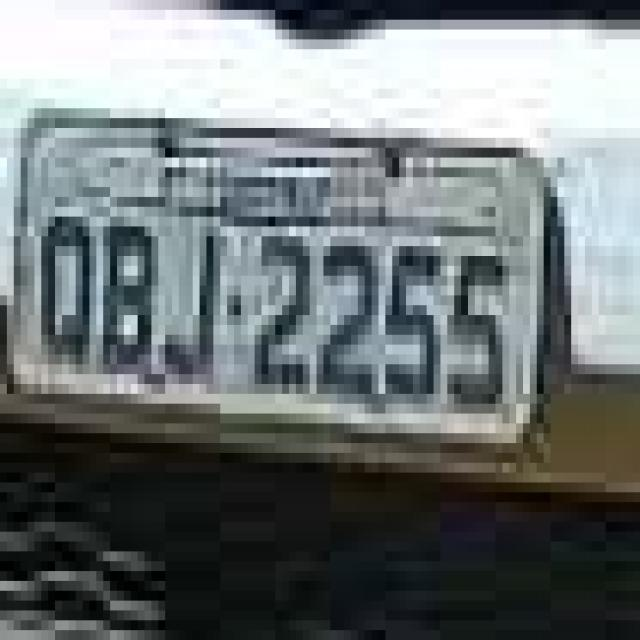5: (382, 234, 445, 415), (448, 243, 504, 417)
B: (104, 209, 160, 378)
J: (159, 221, 221, 392)
Q: (40, 206, 98, 376)
